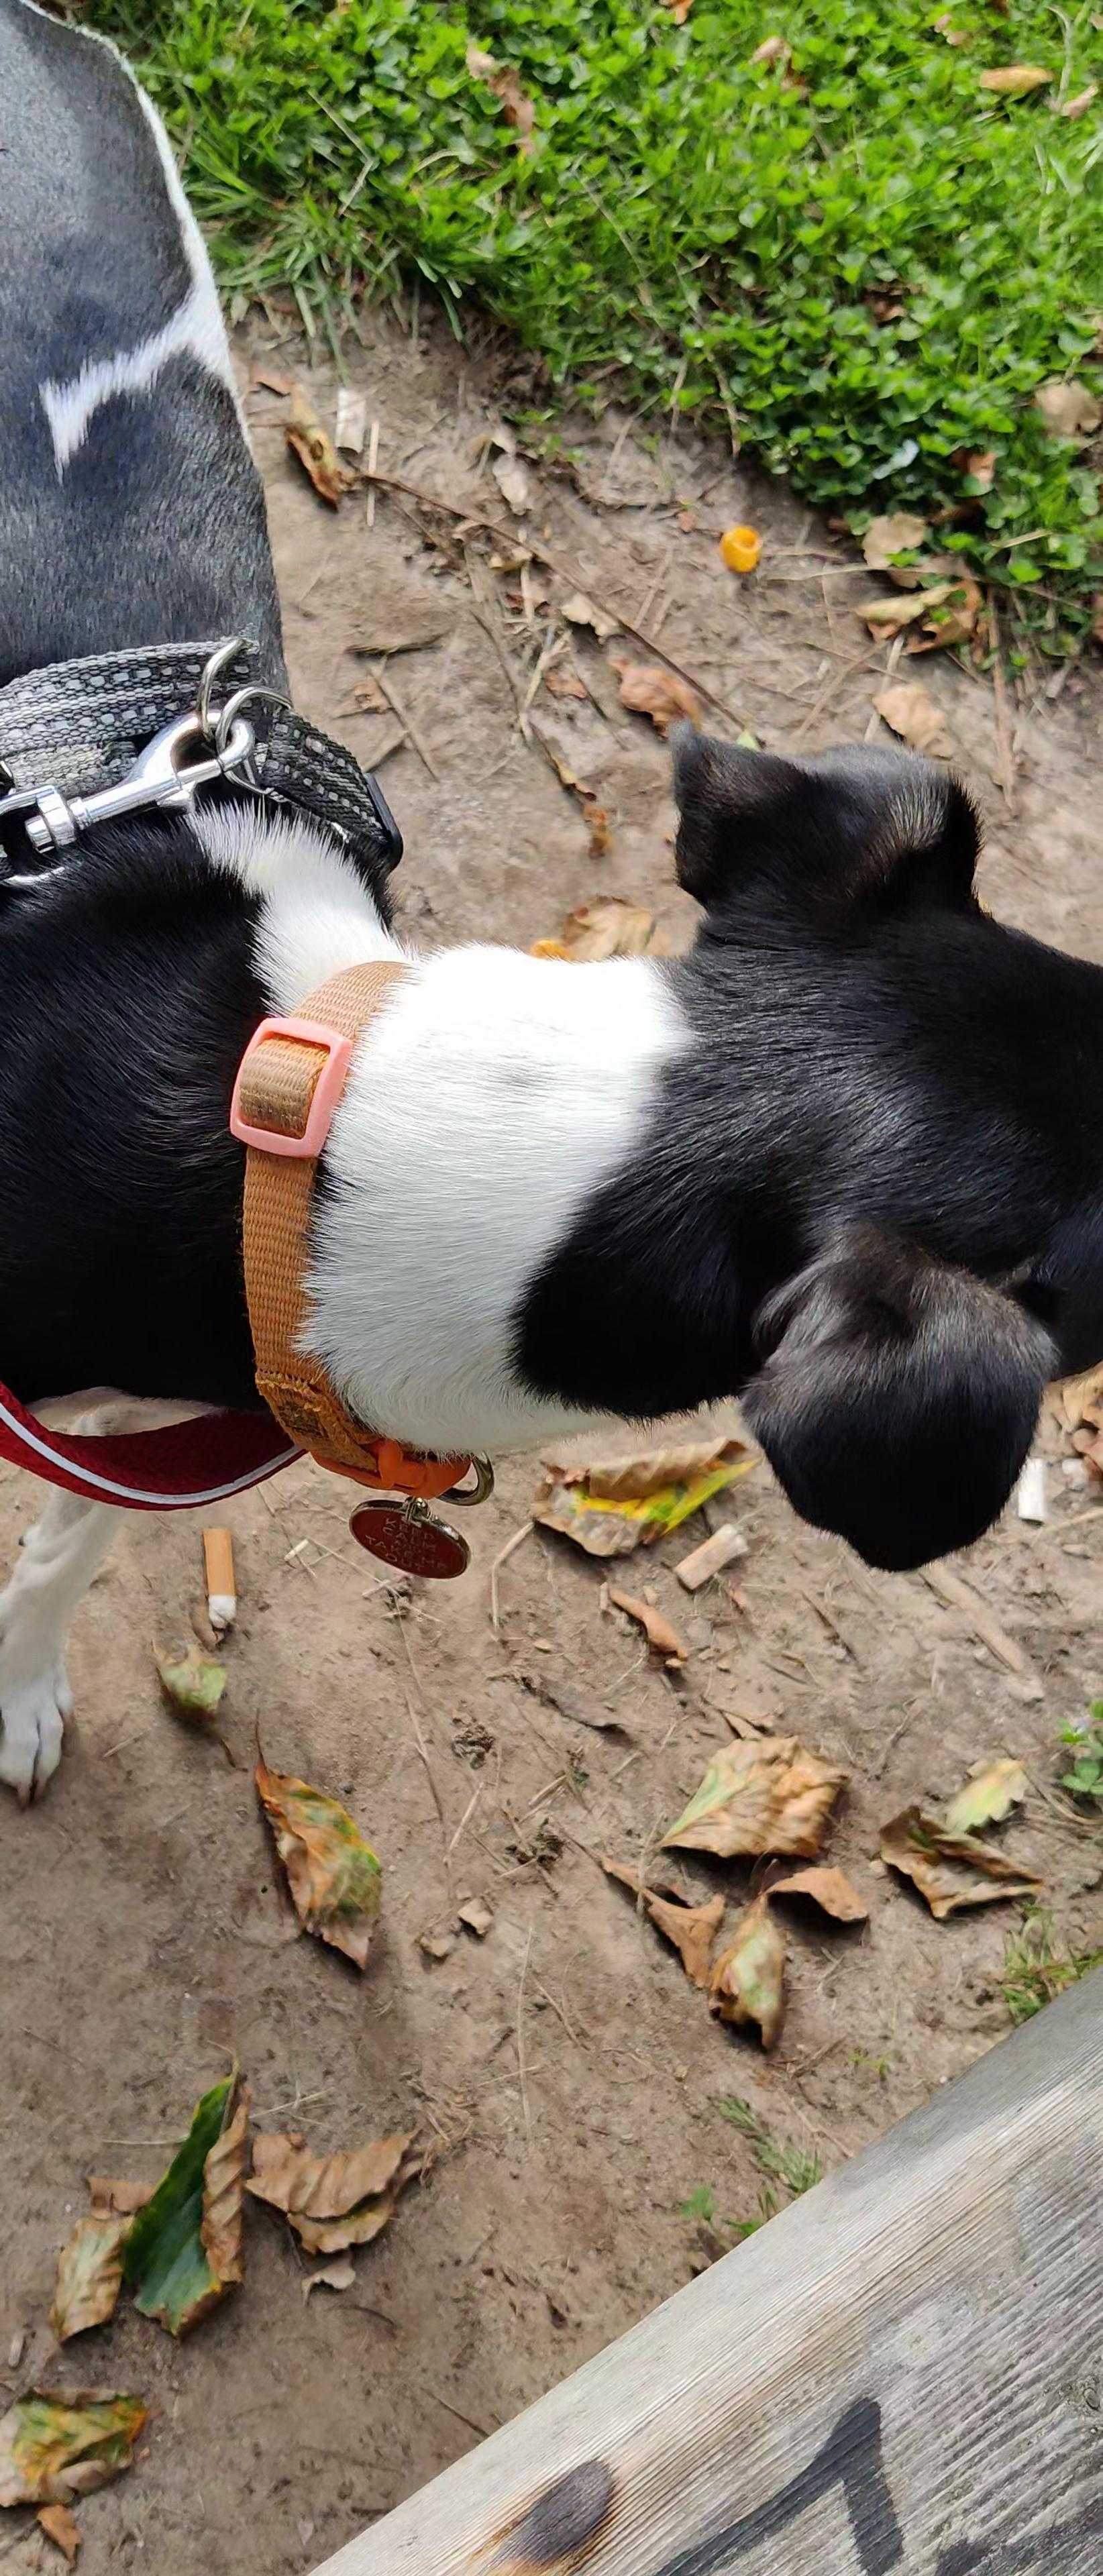Dog: (0, 0, 1103, 1819)
